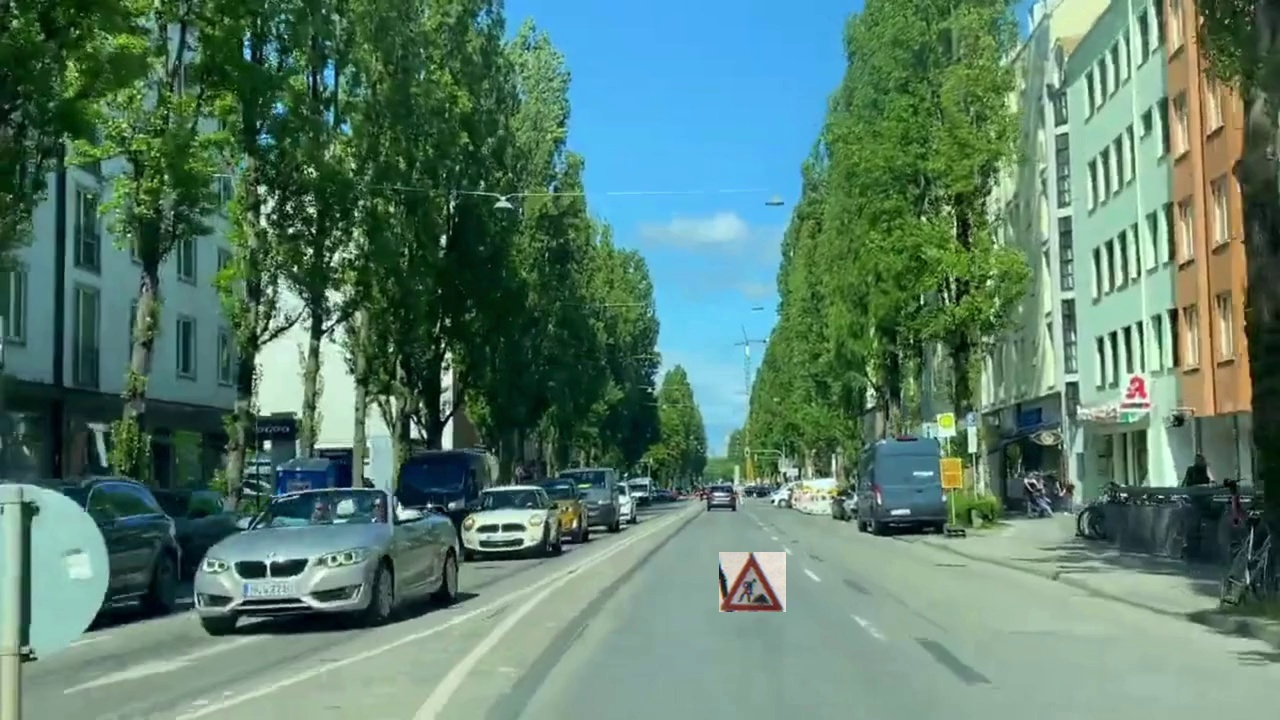Road work: (719, 552, 786, 612)
